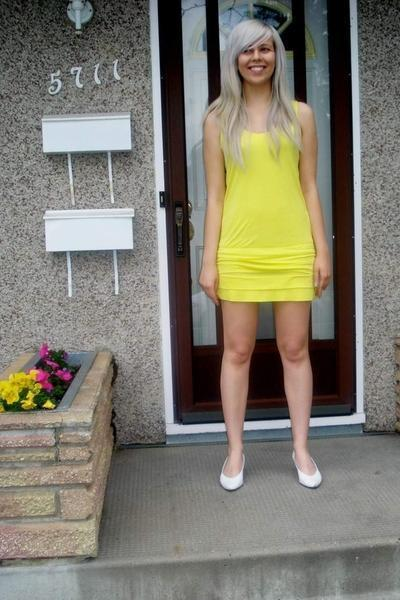dress: (217, 130, 317, 301)
shoe: (220, 444, 320, 488)
